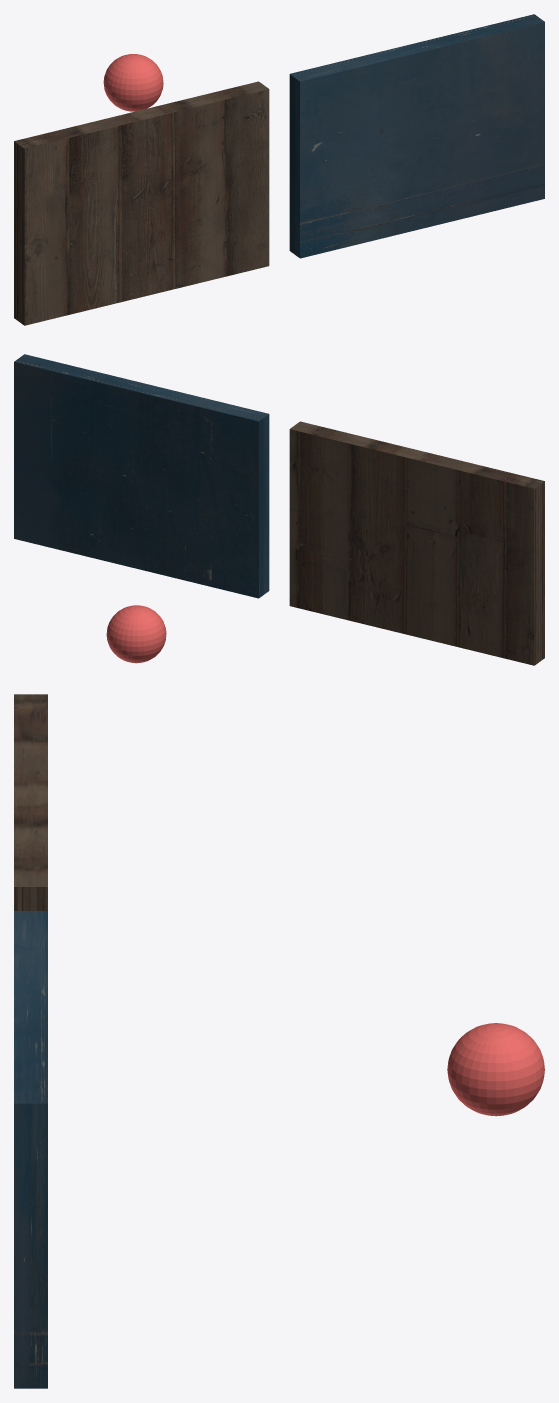
The picture shows the model from 3 angles, top to bottom: view 1: azimuth 30°, elevation 25°; view 2: azimuth 150°, elevation 25°; view 3: azimuth 270°, elevation 25°; orthographic projection. The views are drawn at different scales.
Parts seen in each view (by area): view 1: Wall_Wood, Wall_Wood.001, Emitter; view 2: Wall_Wood, Wall_Wood.001, Emitter; view 3: Wall_Wood.001, Wall_Wood, Emitter.
Boxes of the visible parts, box(x1,y1,x2,y2) form: Wall_Wood: box(14, 81, 269, 325); Wall_Wood.001: box(289, 14, 544, 258); Emitter: box(103, 54, 163, 111); Wall_Wood: box(289, 421, 544, 665); Wall_Wood.001: box(14, 354, 269, 598); Emitter: box(106, 605, 166, 663); Wall_Wood.001: box(14, 911, 47, 1388); Wall_Wood: box(14, 694, 47, 910); Emitter: box(447, 1023, 544, 1116).
Size of what is drawn, in the model's own units: 14.76 by 4.8 by 8.1.
3 materials, 2 textured.
